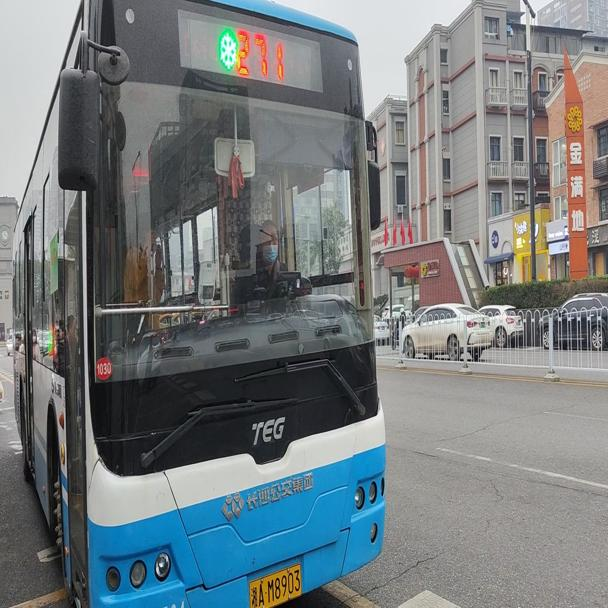bus: (12, 2, 385, 598)
screen: (234, 19, 289, 83)
